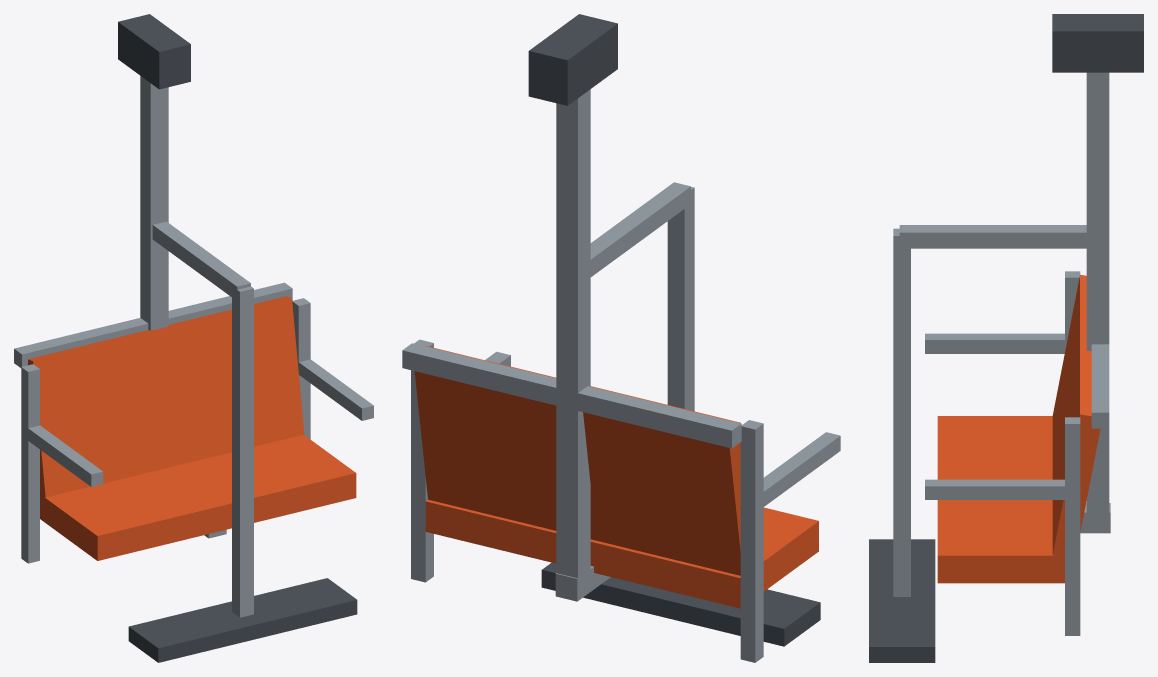
The model's file is chair-double.glb.
3 renders of one model, left to right at view 1: azimuth 30°, elevation 25°; view 2: azimuth 150°, elevation 25°; view 3: azimuth 270°, elevation 25°, orthographic. The views are drawn at different scales.
Parts seen in each view (by area): view 1: chair-double; view 2: chair-double; view 3: chair-double.
Boxes of the visible parts, x1,y1,x2,y2 form: chair-double: [14, 14, 373, 662]; chair-double: [402, 14, 840, 662]; chair-double: [869, 14, 1143, 662].
Bounding box in the file's own units: 1.42 × 2.54 × 1.08.
